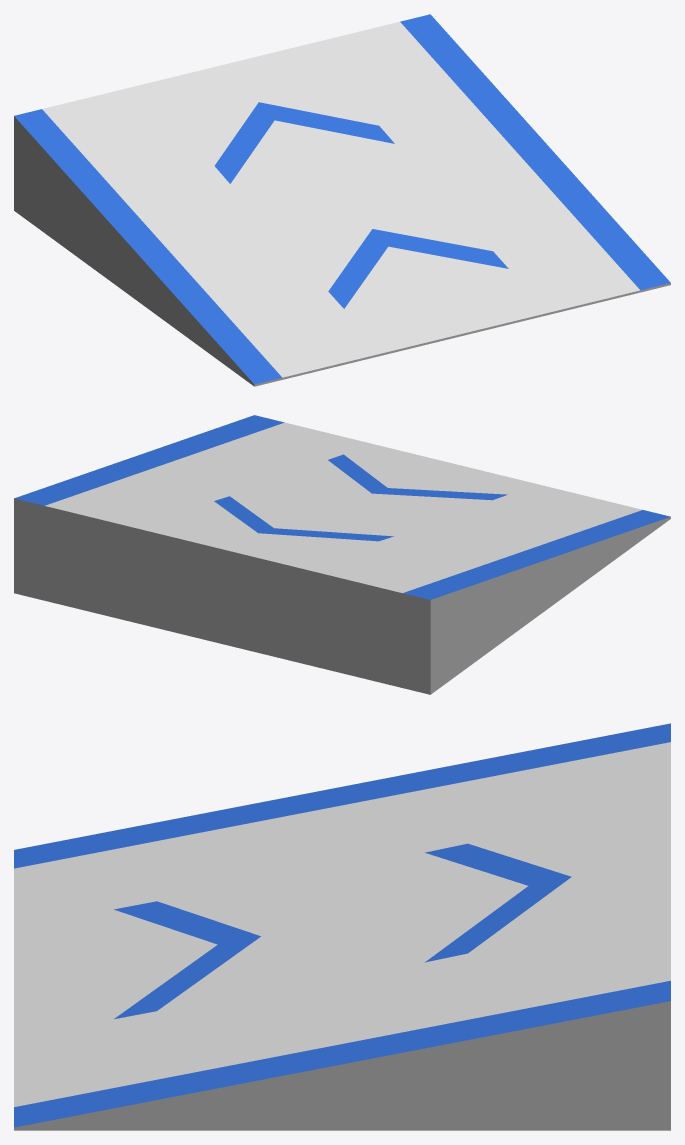
Rendered from Ksa_Hz_Rampas 1.fbx.
3 views of the same model, one above another, from view 1: azimuth 30°, elevation 25°; view 2: azimuth 150°, elevation 25°; view 3: azimuth 270°, elevation 25° (orthographic). The views are drawn at different scales.
Parts seen in each view (by area): view 1: Cube.009; view 2: Cube.009; view 3: Cube.009.
Boxes of the visible parts, bbox=[...] form: Cube.009: bbox=[14, 14, 670, 386]; Cube.009: bbox=[14, 415, 670, 694]; Cube.009: bbox=[14, 723, 670, 1130].
Bounding box in the file's own units: 101 × 22 × 101.
